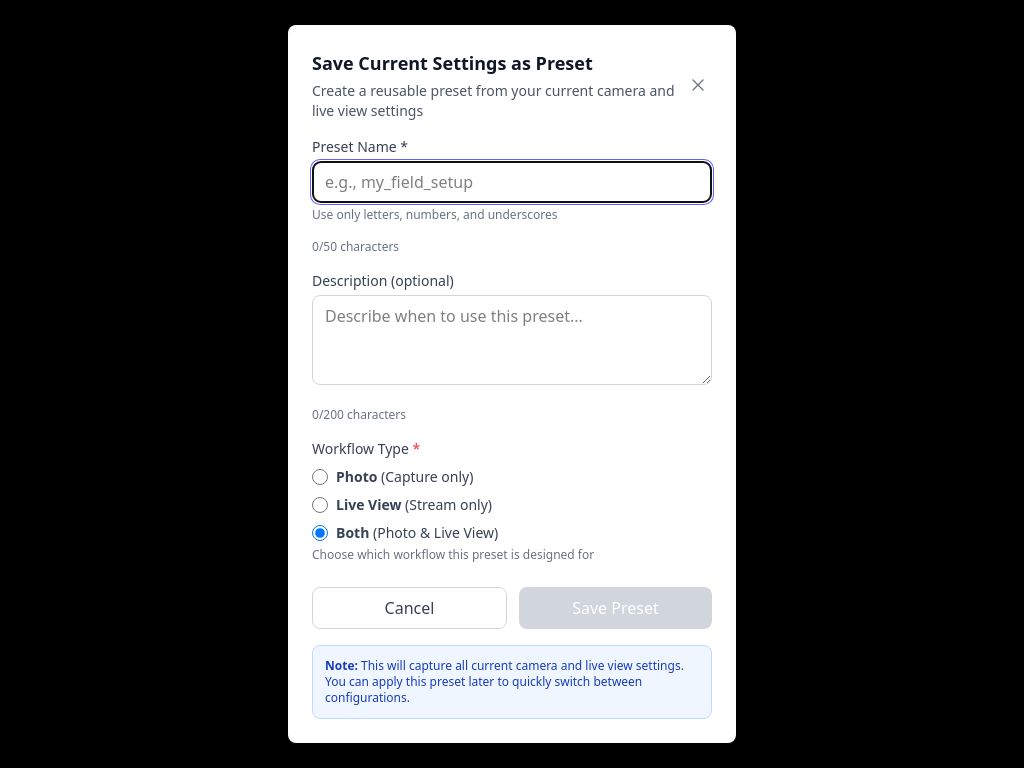
Scenario: SavePresetModal › Settings validation › shows settings errors and blocks save
In the field with placeholder "e.g., my_field_setup": (512,182) x1=312 y1=161 x2=712 y2=203, type "bad_settings"
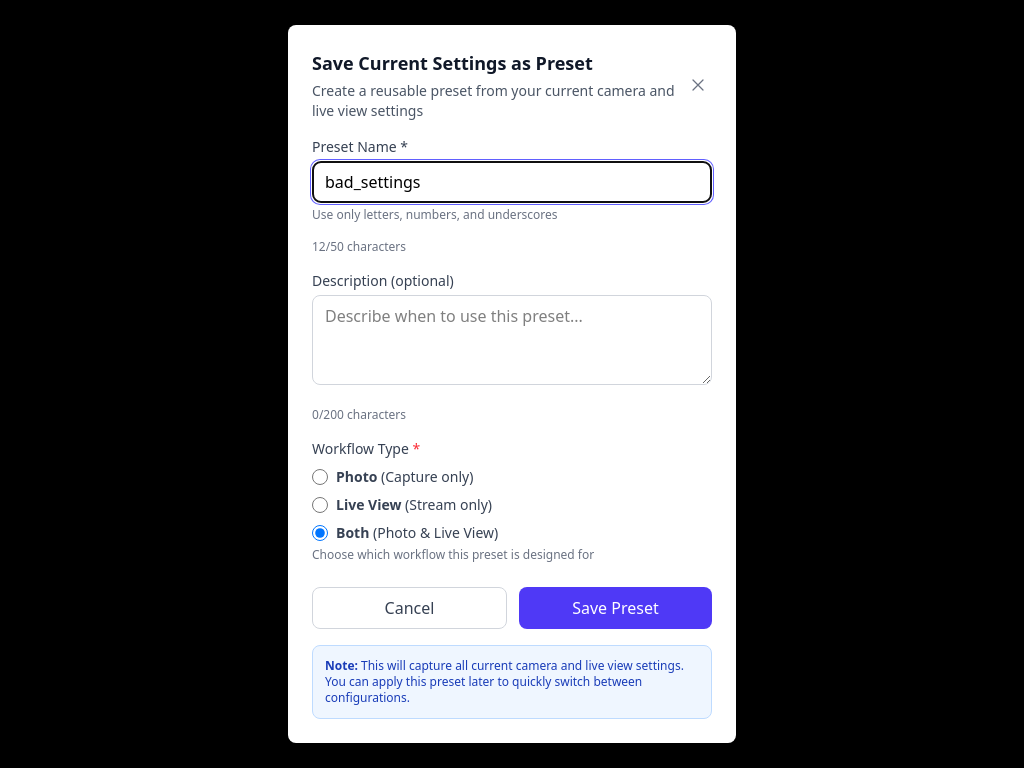
Click the button "Save Preset": (616,608) x1=519 y1=587 x2=712 y2=629
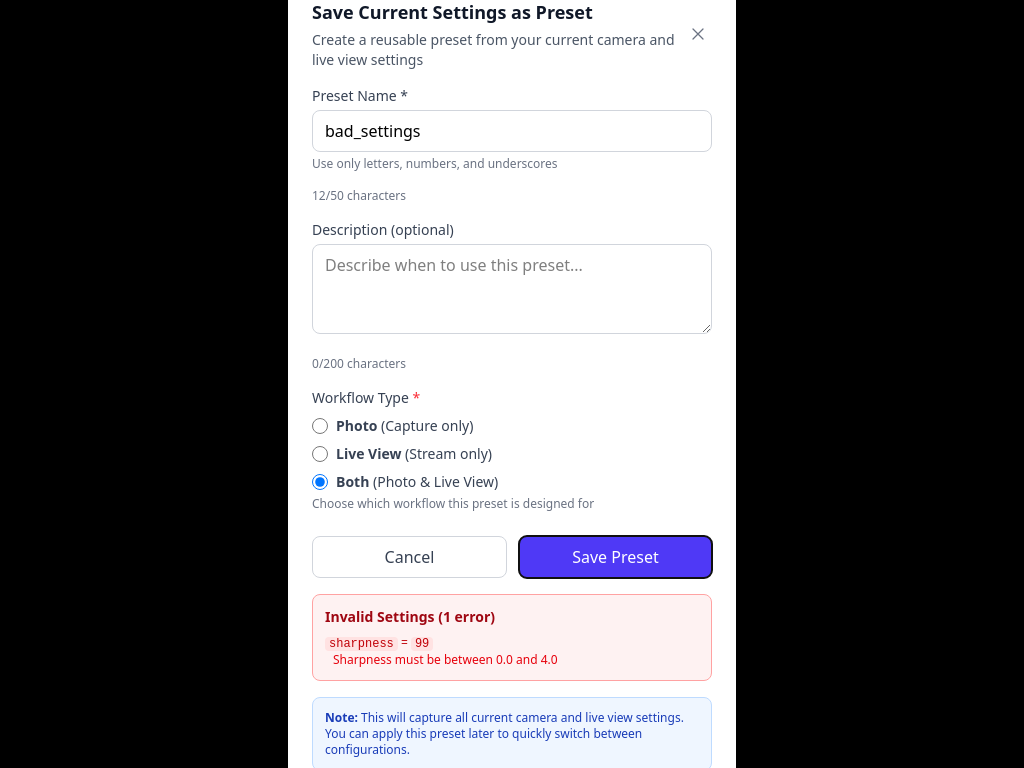
Now the message is shown, box x1=312 y1=594 x2=712 y2=680
Now the text "sharpness" is shown, box x1=325 y1=636 x2=398 y2=650
Now the text "99" is shown, box x1=411 y1=636 x2=433 y2=650
